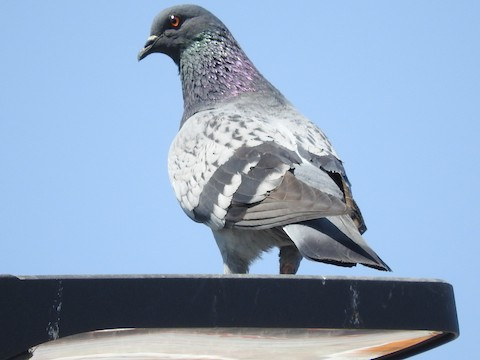pigeon: (131, 5, 392, 282)
